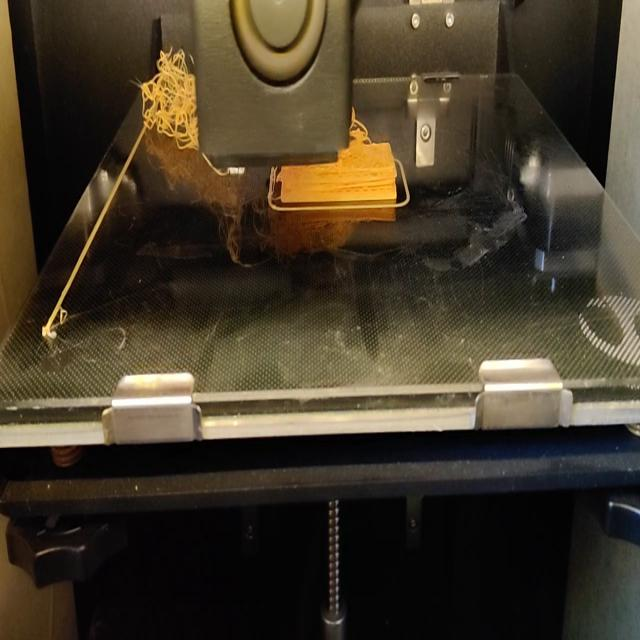spaghetti: (132, 47, 198, 154)
